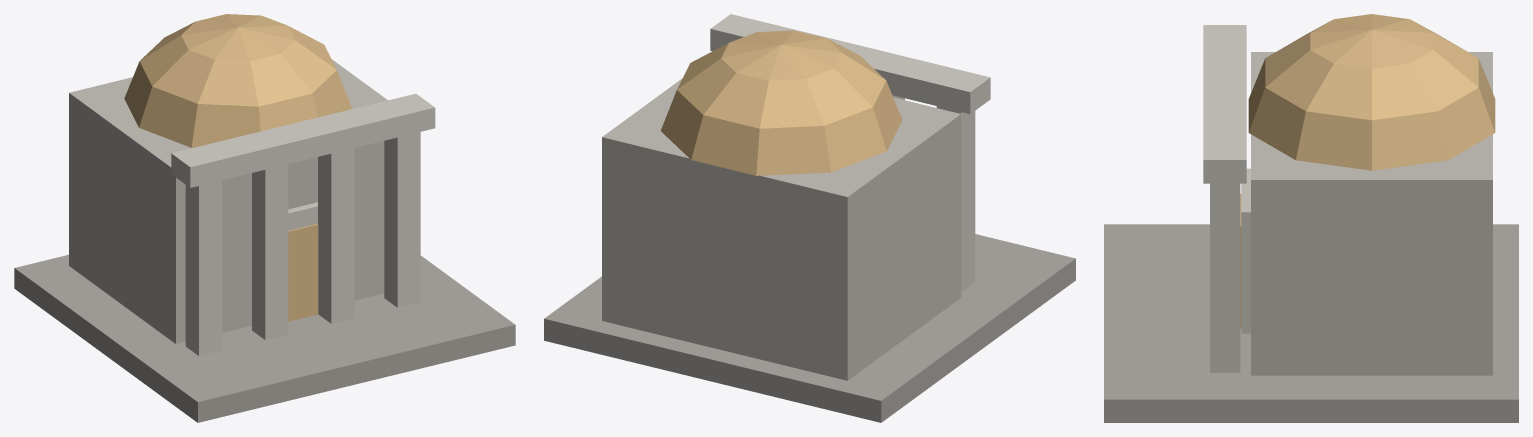
3 views of the same model, side by side, from view 1: azimuth 30°, elevation 25°; view 2: azimuth 150°, elevation 25°; view 3: azimuth 270°, elevation 25° (orthographic). The views are drawn at different scales.
Parts seen in each view (by area): view 1: body; view 2: body; view 3: body.
Part boxes in pixels (box(x1,y1,x2,y2)): body: box(14, 14, 515, 422); body: box(544, 14, 1075, 422); body: box(1104, 14, 1518, 422).
Bounding box in the file's own units: 9.6 × 7.8 × 9.6.
